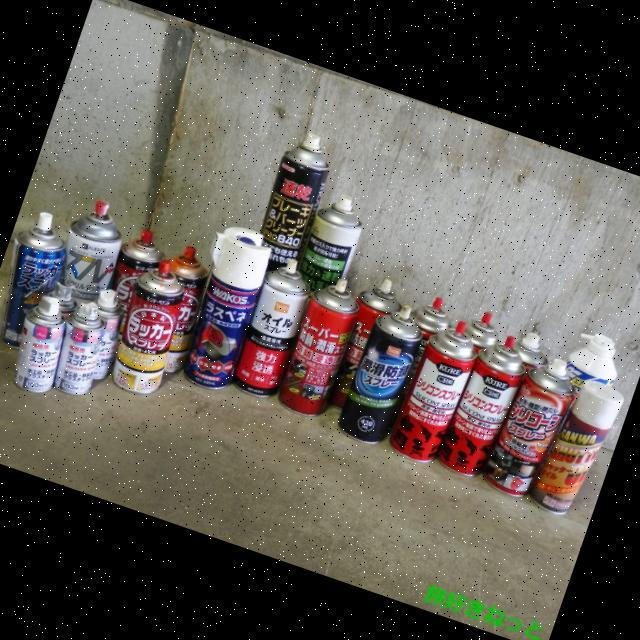chemical_spray_can: (183, 227, 270, 388), (484, 358, 576, 497), (531, 380, 625, 515), (438, 336, 525, 476), (390, 321, 476, 462), (338, 305, 421, 444), (278, 278, 358, 416), (232, 259, 308, 397), (111, 259, 183, 394), (260, 133, 329, 270), (328, 279, 400, 408), (0, 212, 63, 347), (60, 200, 120, 304), (299, 195, 362, 291), (164, 245, 207, 373), (13, 296, 63, 393), (52, 302, 103, 395), (111, 229, 163, 311), (92, 289, 123, 380)
